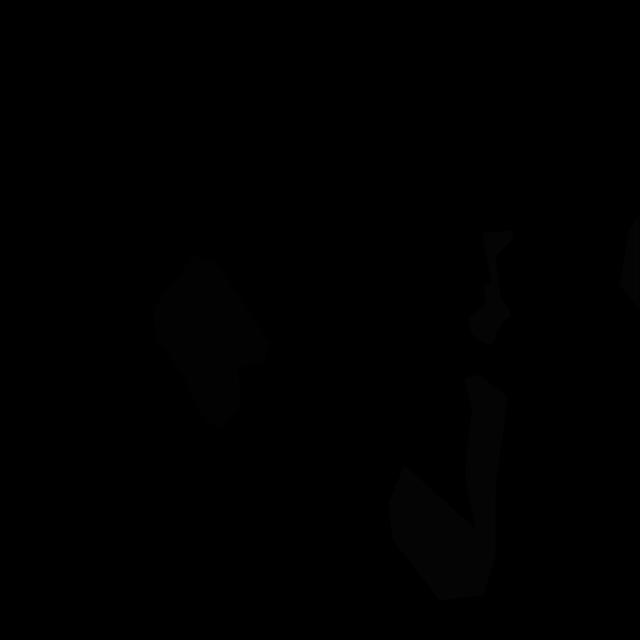cardboard: (152, 256, 270, 430)
soft_plastic: (389, 374, 508, 601), (468, 230, 513, 346), (620, 212, 640, 310)
